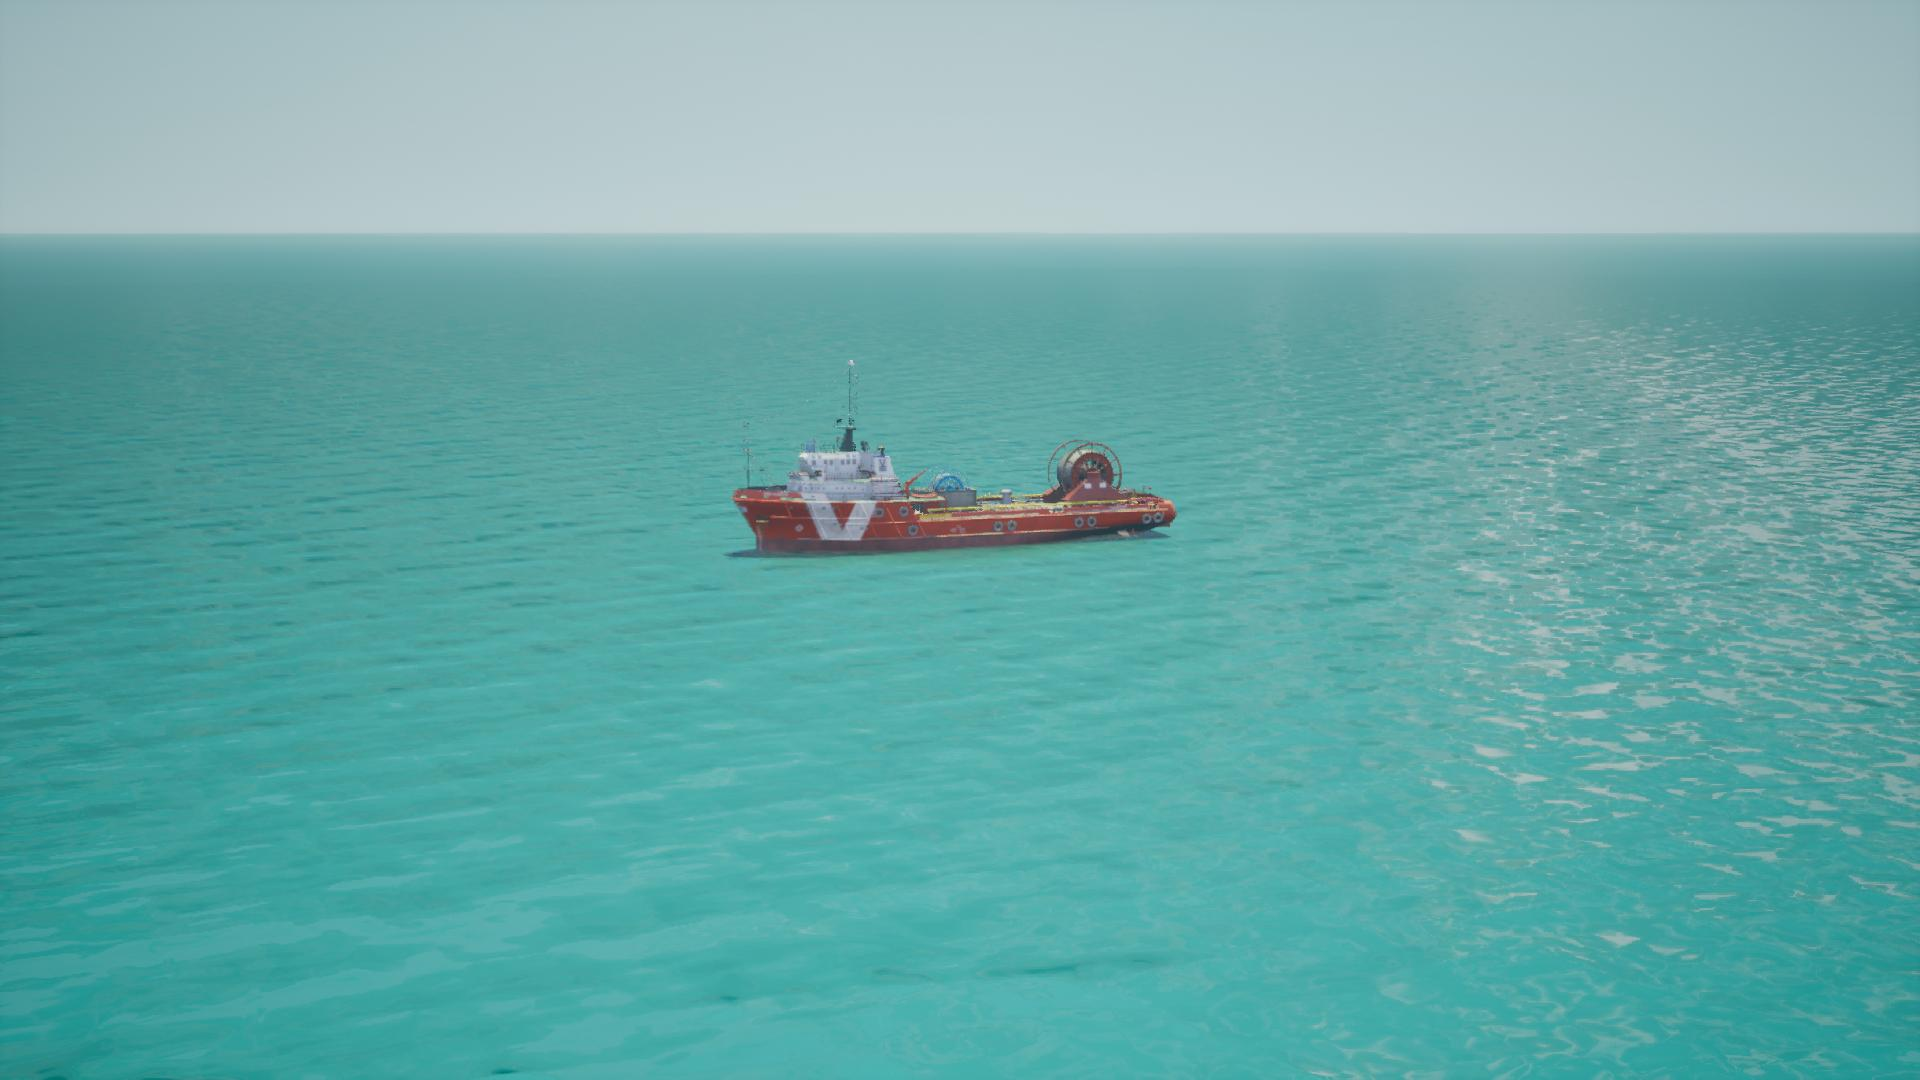Tug Boat: (723, 361, 1174, 562)
